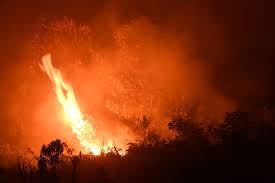fire: (36, 51, 106, 154)
smoke: (115, 4, 271, 114)
